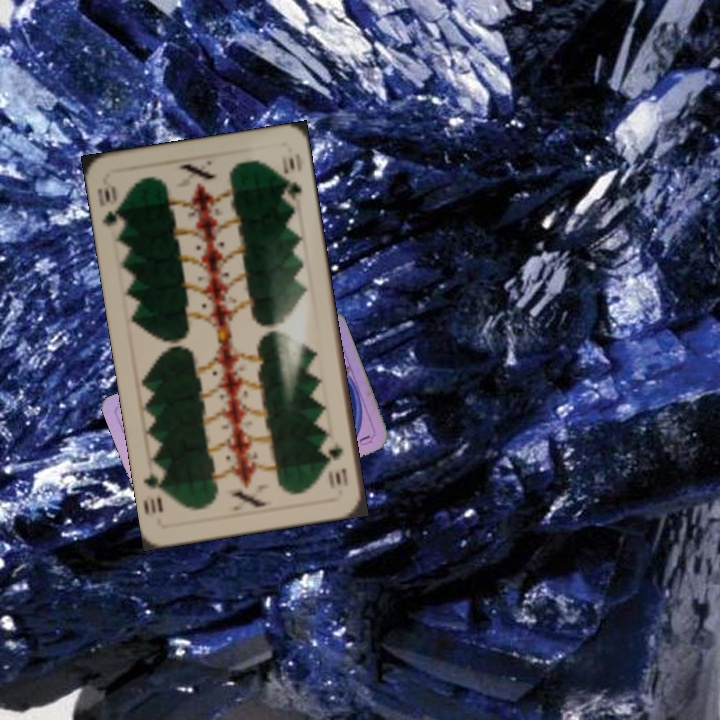G10: (93, 177, 127, 234), (324, 438, 351, 490)
